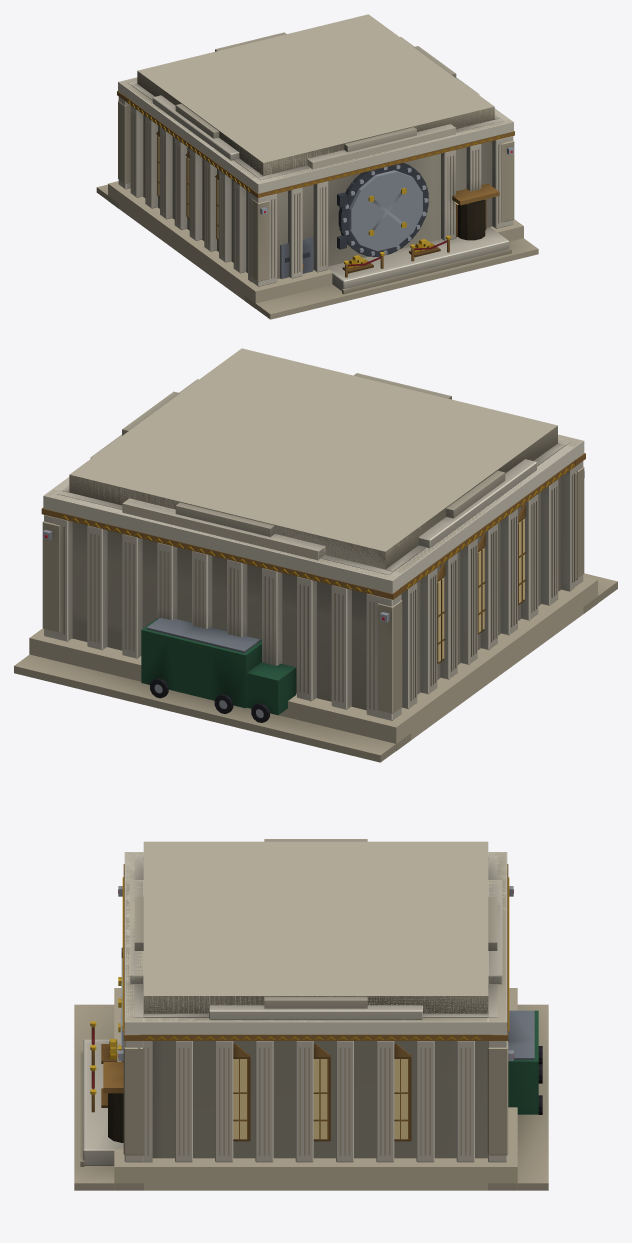
File: PocketSafeFloor.fbx
3 renders of one model, top to bottom at view 1: azimuth 30°, elevation 25°; view 2: azimuth 150°, elevation 25°; view 3: azimuth 270°, elevation 25°, orthographic. The views are drawn at different scales.
Parts seen in each view (by area): view 1: PS_S_All, PS_F_Rings, PS_F_Smooth, PS_F_Quiet, PS_F_Props, PS_F_Glass; view 2: PS_S_All, PS_F_Rings, PS_F_Smooth, PS_F_Quiet, PS_F_Props, PS_F_Glass; view 3: PS_S_All, PS_F_Rings, PS_F_Smooth, PS_F_Quiet, PS_F_Glass, PS_F_Props.
Part boxes in pixels (box(x1,y1,x2,y2)): PS_S_All: box(108, 14, 523, 308); PS_F_Rings: box(118, 32, 512, 290); PS_F_Smooth: box(96, 49, 538, 319); PS_F_Quiet: box(97, 71, 537, 314); PS_F_Props: box(280, 183, 499, 278); PS_F_Glass: box(158, 136, 512, 239); PS_S_All: box(29, 348, 597, 750); PS_F_Rings: box(44, 373, 583, 720); PS_F_Smooth: box(14, 396, 617, 762); PS_F_Quiet: box(14, 426, 617, 755); PS_F_Props: box(247, 662, 296, 715); PS_F_Glass: box(44, 518, 524, 662); PS_S_All: box(114, 841, 517, 1190); PS_F_Rings: box(83, 839, 538, 1165); PS_F_Smooth: box(74, 864, 548, 1190); PS_F_Quiet: box(74, 996, 548, 1183); PS_F_Glass: box(118, 890, 513, 1139); PS_F_Props: box(103, 947, 123, 1142).
Bounding box in the file's own units: 60 × 20 × 60.
